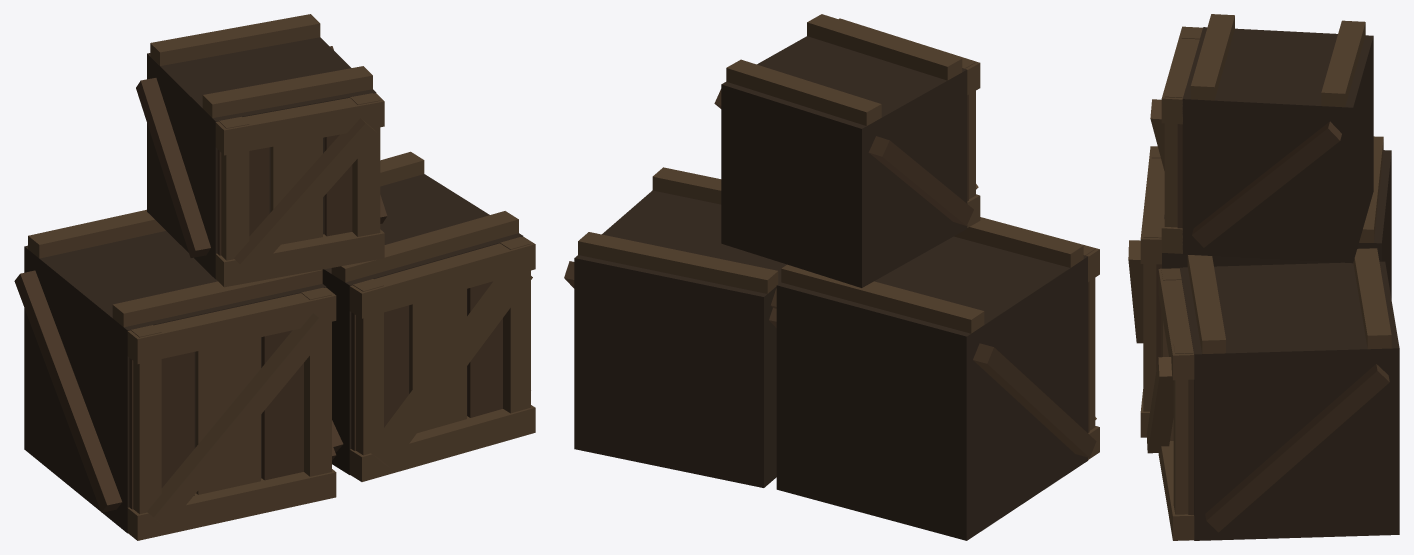
The model's file is Crate_Stack.glb.
3 views of the same model, side by side, from view 1: azimuth 30°, elevation 25°; view 2: azimuth 150°, elevation 25°; view 3: azimuth 270°, elevation 25° (orthographic). The views are drawn at different scales.
Visible parts, largest first — view 1: Crate_Stack; view 2: Crate_Stack; view 3: Crate_Stack.
Boxes of the visible parts, x1,y1,x2,y2 form: Crate_Stack: (14,14,535,540); Crate_Stack: (564,14,1099,540); Crate_Stack: (1128,14,1399,540).
Size of the model in its own units: 1.73 by 1.47 by 0.9483.
